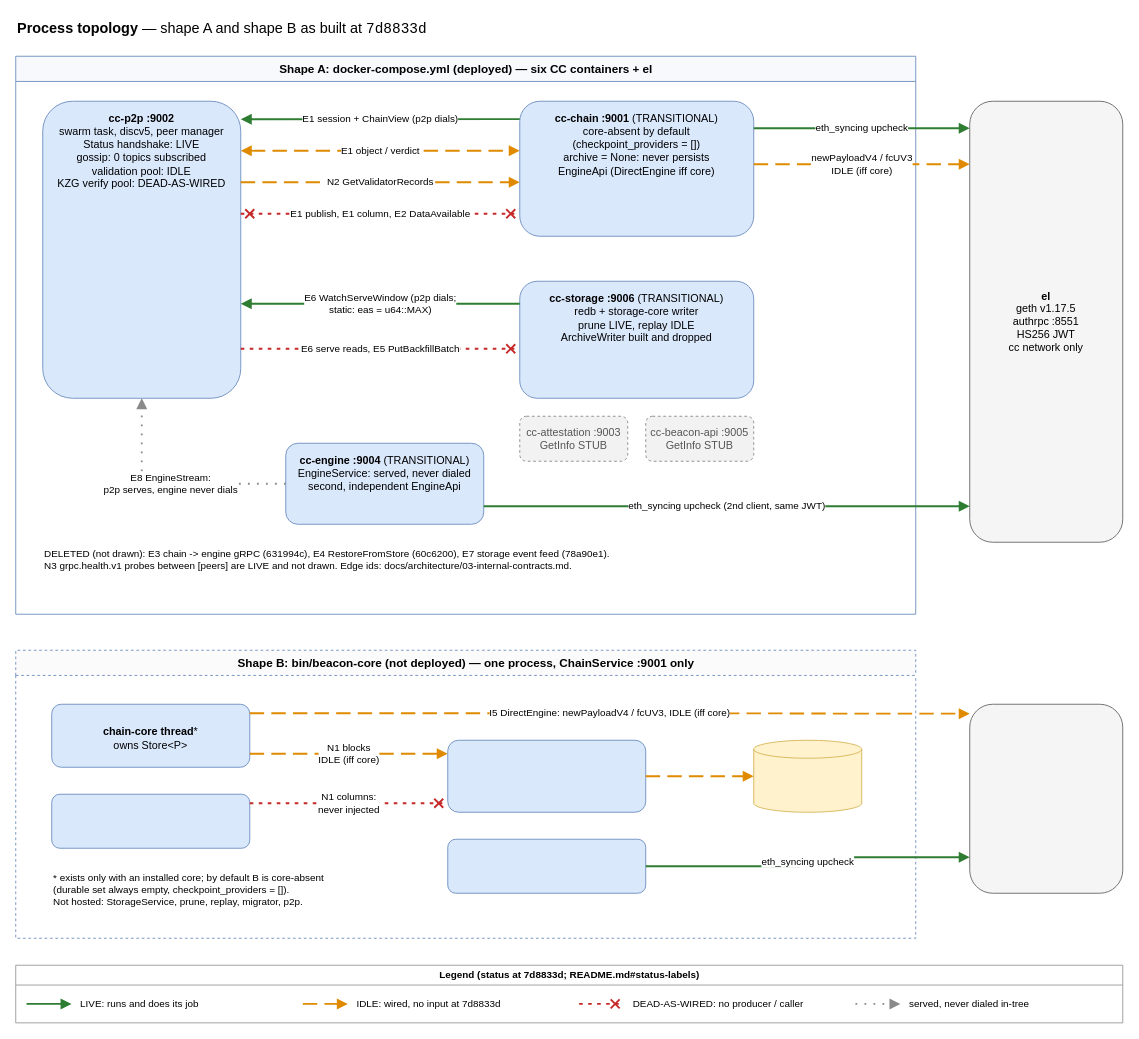
This 1139x1039 diagram has some shape labels left out. Here are the shapes that lost their labels. From the top down, the centre of each, then its label:
(x=546, y=775): storage-core writer task P0 32 / P1 64 / P2 256 (P1, P2: DEAD-AS-WIRED)
(x=807, y=775): store.redb
(x=1046, y=798): EL (geth) authrpc :8551 HS256 JWT
(x=150, y=820): P2pStream server no p2p dials shape B
(x=546, y=865): EngineApi upcheck driver spawned even core-absent
